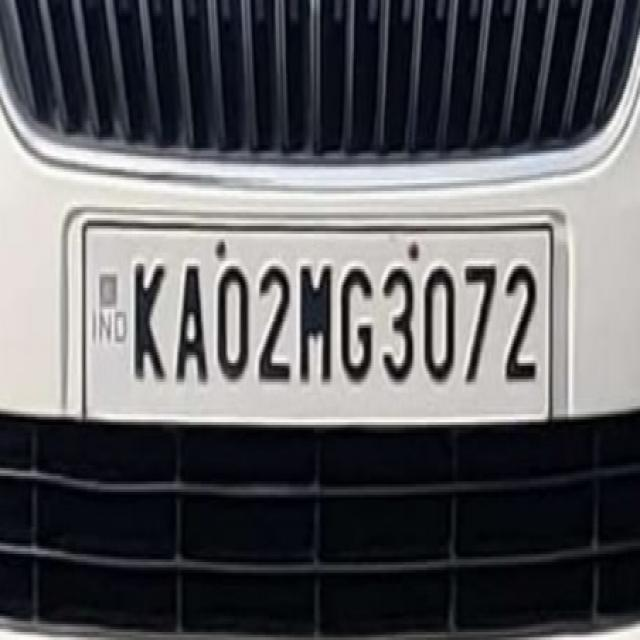0: (212, 258, 252, 384), (421, 264, 456, 388)
3: (379, 258, 417, 398)
7: (459, 255, 496, 396)
A: (173, 246, 210, 390)
G: (336, 256, 378, 385)
K: (128, 236, 166, 390)
M: (295, 258, 336, 390)
